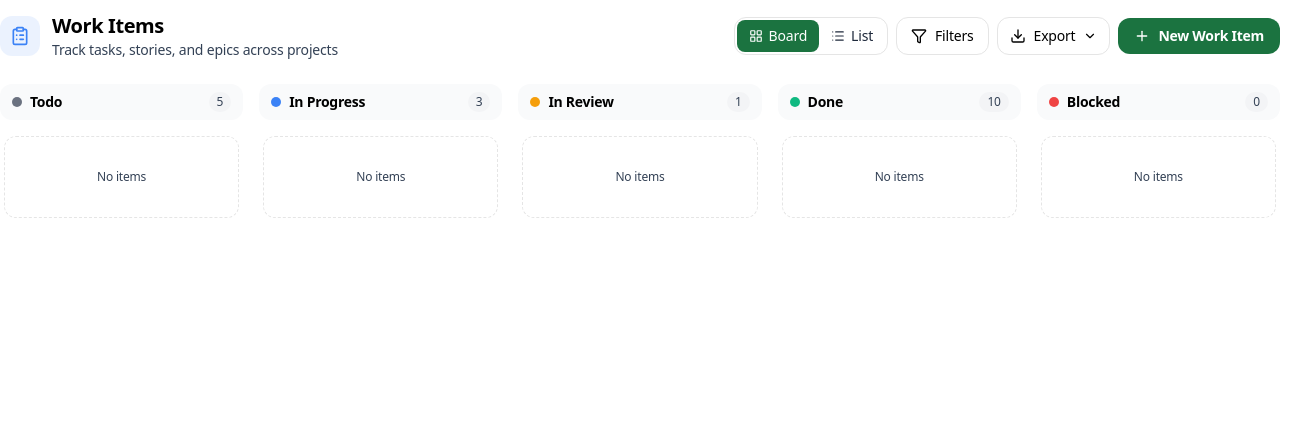
Scenario: WorkItemsPage › list view › shows empty state in list view when no items
Click the button "List".
click(852, 36)  # box [819,20,885,52]
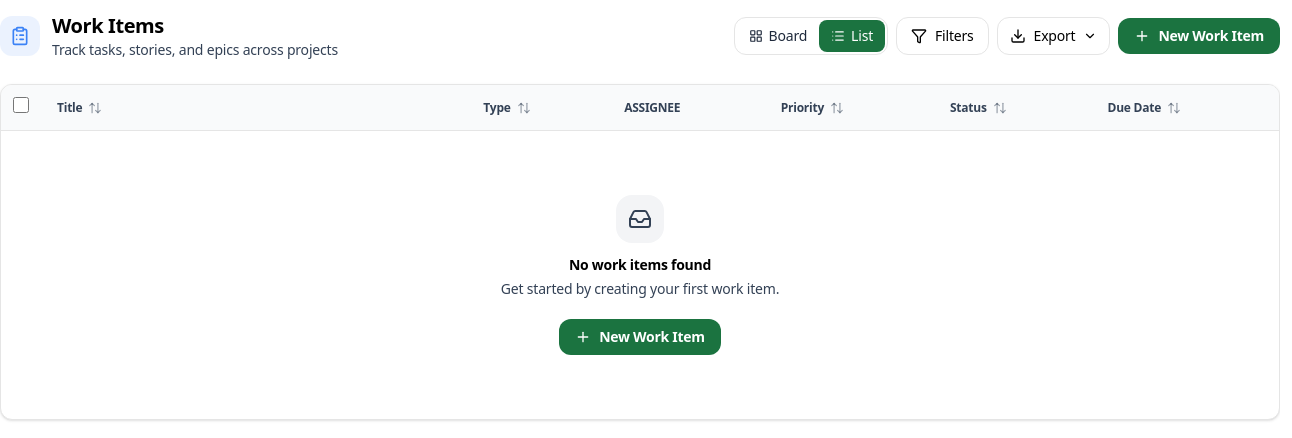
Expected: the text "No work items found" is shown, [569,255,711,274]
